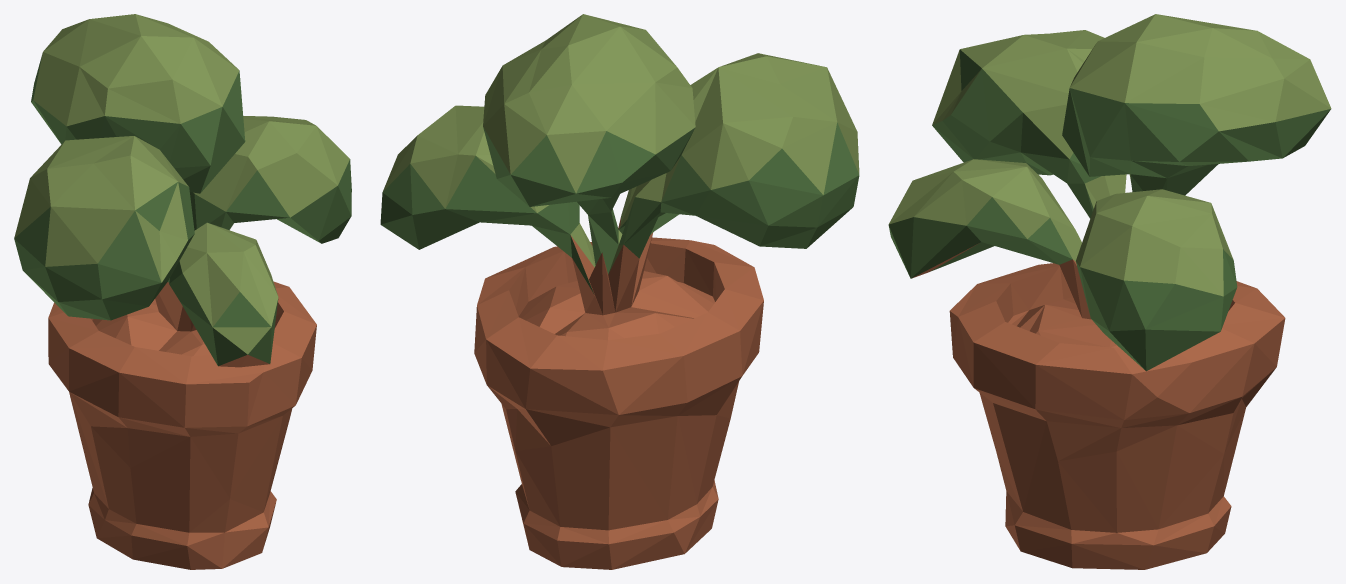
File: plant_pot.glb
The picture shows the model from 3 angles, left to right: view 1: azimuth 30°, elevation 25°; view 2: azimuth 150°, elevation 25°; view 3: azimuth 270°, elevation 25°; orthographic projection. The views are drawn at different scales.
Visible parts, largest first — view 1: plant_pot; view 2: plant_pot; view 3: plant_pot.
Boxes of the visible parts, x1,y1,x2,y2 form: plant_pot: [14, 14, 351, 569]; plant_pot: [380, 14, 859, 569]; plant_pot: [888, 14, 1331, 569].
Size of the model in its own units: 0.75 by 0.95 by 0.75.
